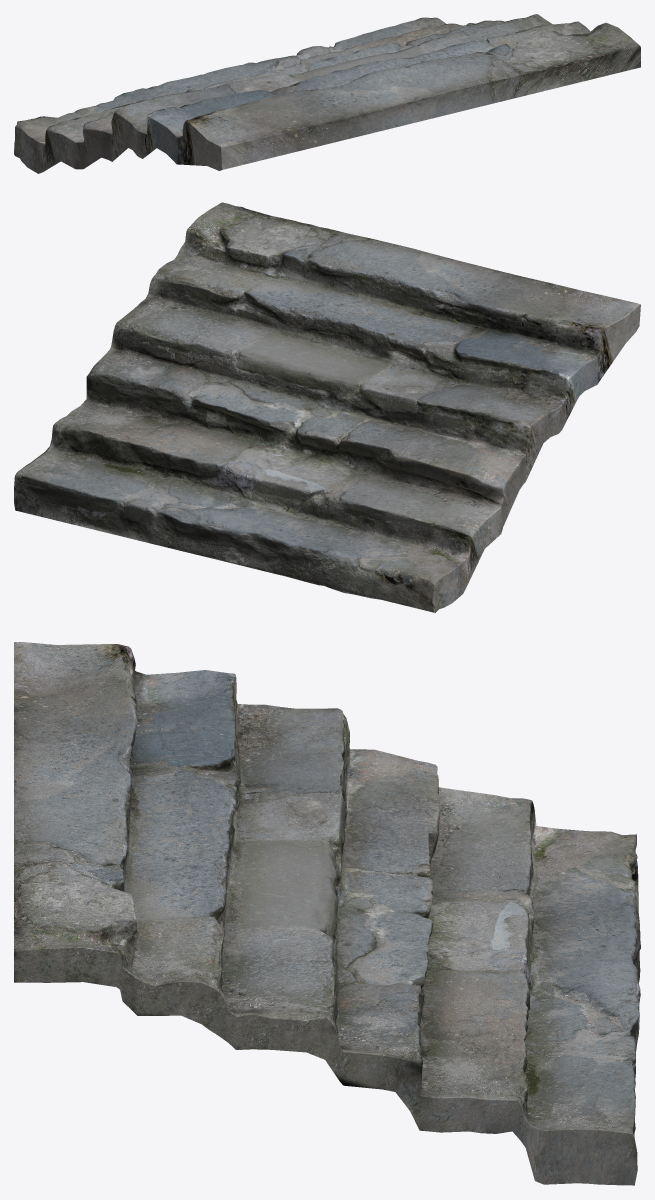
The model's file is sm_Stairs_01_03.fbx.
3 views of the same model, one above another, from view 1: azimuth 30°, elevation 25°; view 2: azimuth 150°, elevation 25°; view 3: azimuth 270°, elevation 25° (orthographic). The views are drawn at different scales.
Visible parts, largest first — view 1: sm_Stairs_01_03_LOD0; view 2: sm_Stairs_01_03_LOD0; view 3: sm_Stairs_01_03_LOD0.
Part boxes in pixels (x1,y1,x2,y2): sm_Stairs_01_03_LOD0: (14,14,640,173); sm_Stairs_01_03_LOD0: (14,202,640,612); sm_Stairs_01_03_LOD0: (14,642,640,1185).
Size of the model in its own units: 204 by 173 by 74.2.
